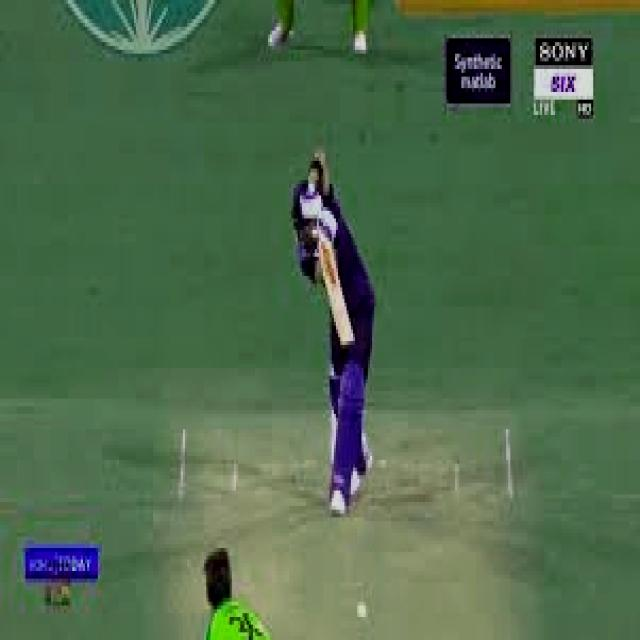toe: (335, 314, 358, 352)
